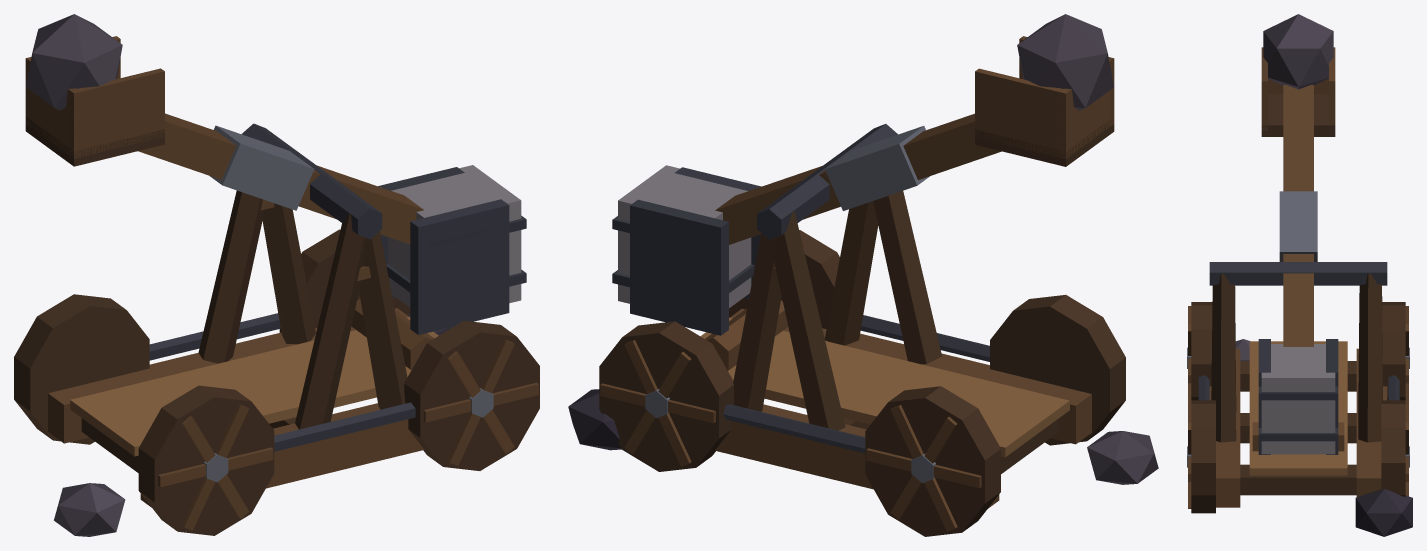
File: Decor_DragonLair_Catapult.fbx
3 views of the same model, side by side, from view 1: azimuth 30°, elevation 25°; view 2: azimuth 150°, elevation 25°; view 3: azimuth 270°, elevation 25° (orthographic). The views are drawn at different scales.
Visible parts, largest first — view 1: Catapult_Body; view 2: Catapult_Body; view 3: Catapult_Body.
Boxes of the visible parts, box(x1,y1,x2,y2) form: Catapult_Body: box(14, 14, 539, 536); Catapult_Body: box(568, 14, 1158, 536); Catapult_Body: box(1187, 14, 1412, 536).
Size of the model in its own units: 13.3 by 12.8 by 7.
